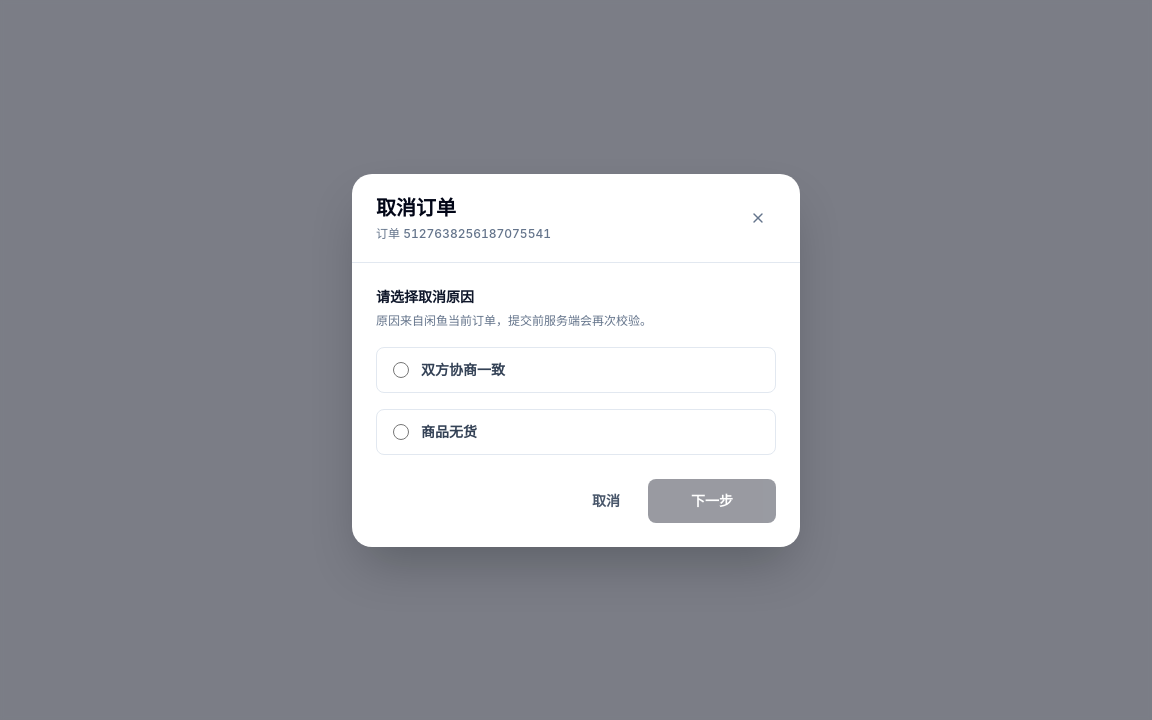
Scenario: CloseOrderModal › 已付款待发货阶段明确提示取消后原路退款
This screenshot has width=1152, height=720.
Click the radio button labelled "双方协商一致" at (401, 370), box [393, 362, 409, 378]
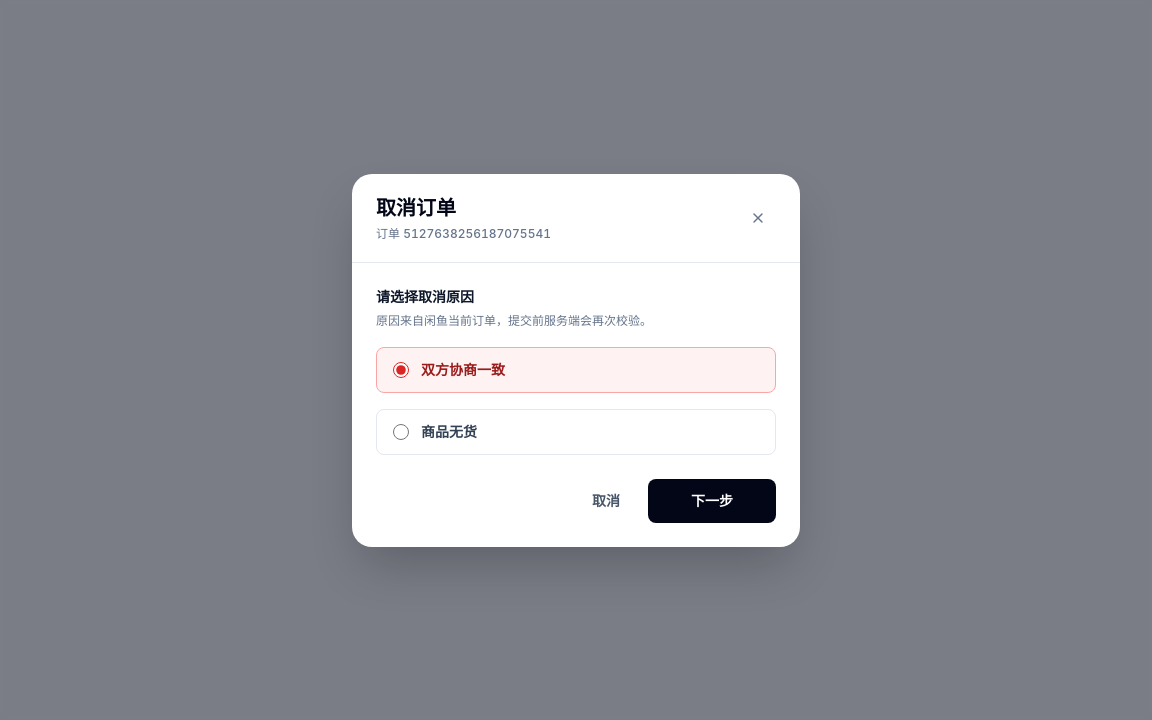
Click the button "下一步" at (712, 500), box [648, 478, 776, 522]
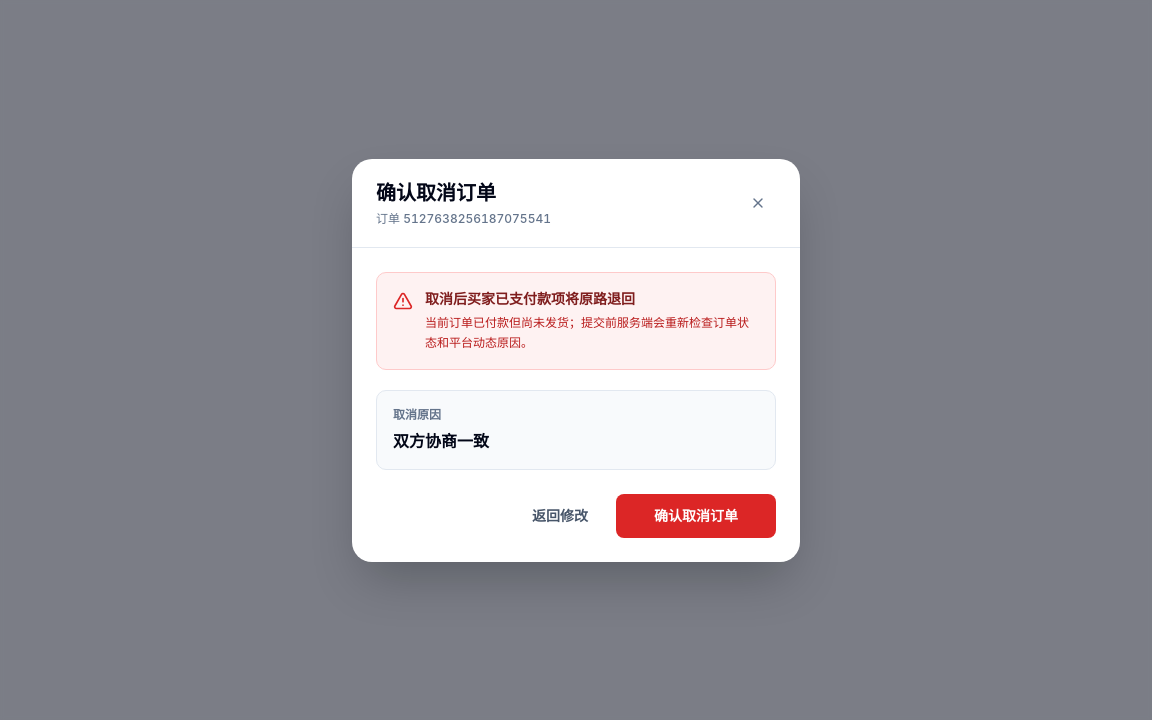
Expected: the text "取消后买家已支付款项将原路退回" is shown, [425, 290, 635, 306]
Expected: the text "当前订单已付款但尚未发货；提交前服务端会重新检查订单状态和平台动态原因。" is shown, [425, 312, 759, 352]
